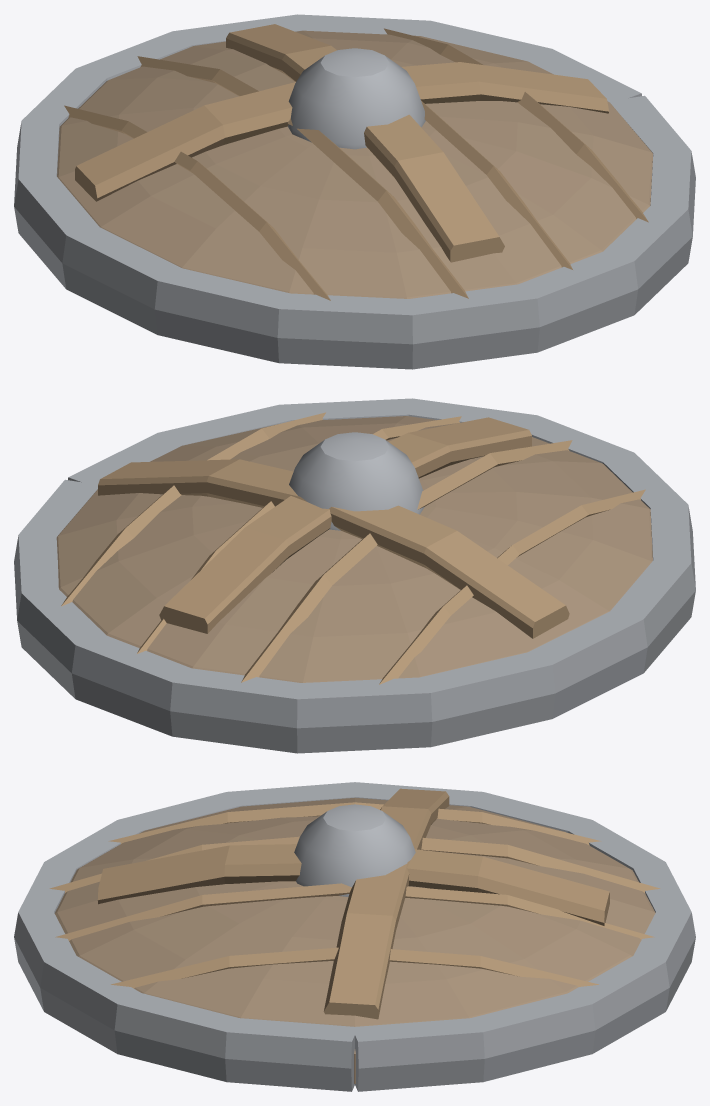
Rendered from wpn_shield_wood.glb.
3 views of the same model, one above another, from view 1: azimuth 30°, elevation 25°; view 2: azimuth 150°, elevation 25°; view 3: azimuth 270°, elevation 25° (orthographic). The views are drawn at different scales.
Visible parts, largest first — view 1: wpn_shield_wood; view 2: wpn_shield_wood; view 3: wpn_shield_wood.
Part boxes in pixels (x1,y1,x2,y2): wpn_shield_wood: (14, 14, 695, 369); wpn_shield_wood: (14, 398, 695, 753); wpn_shield_wood: (14, 782, 695, 1091).
Size of the model in its own units: 0.5873 by 0.1613 by 0.6428.
